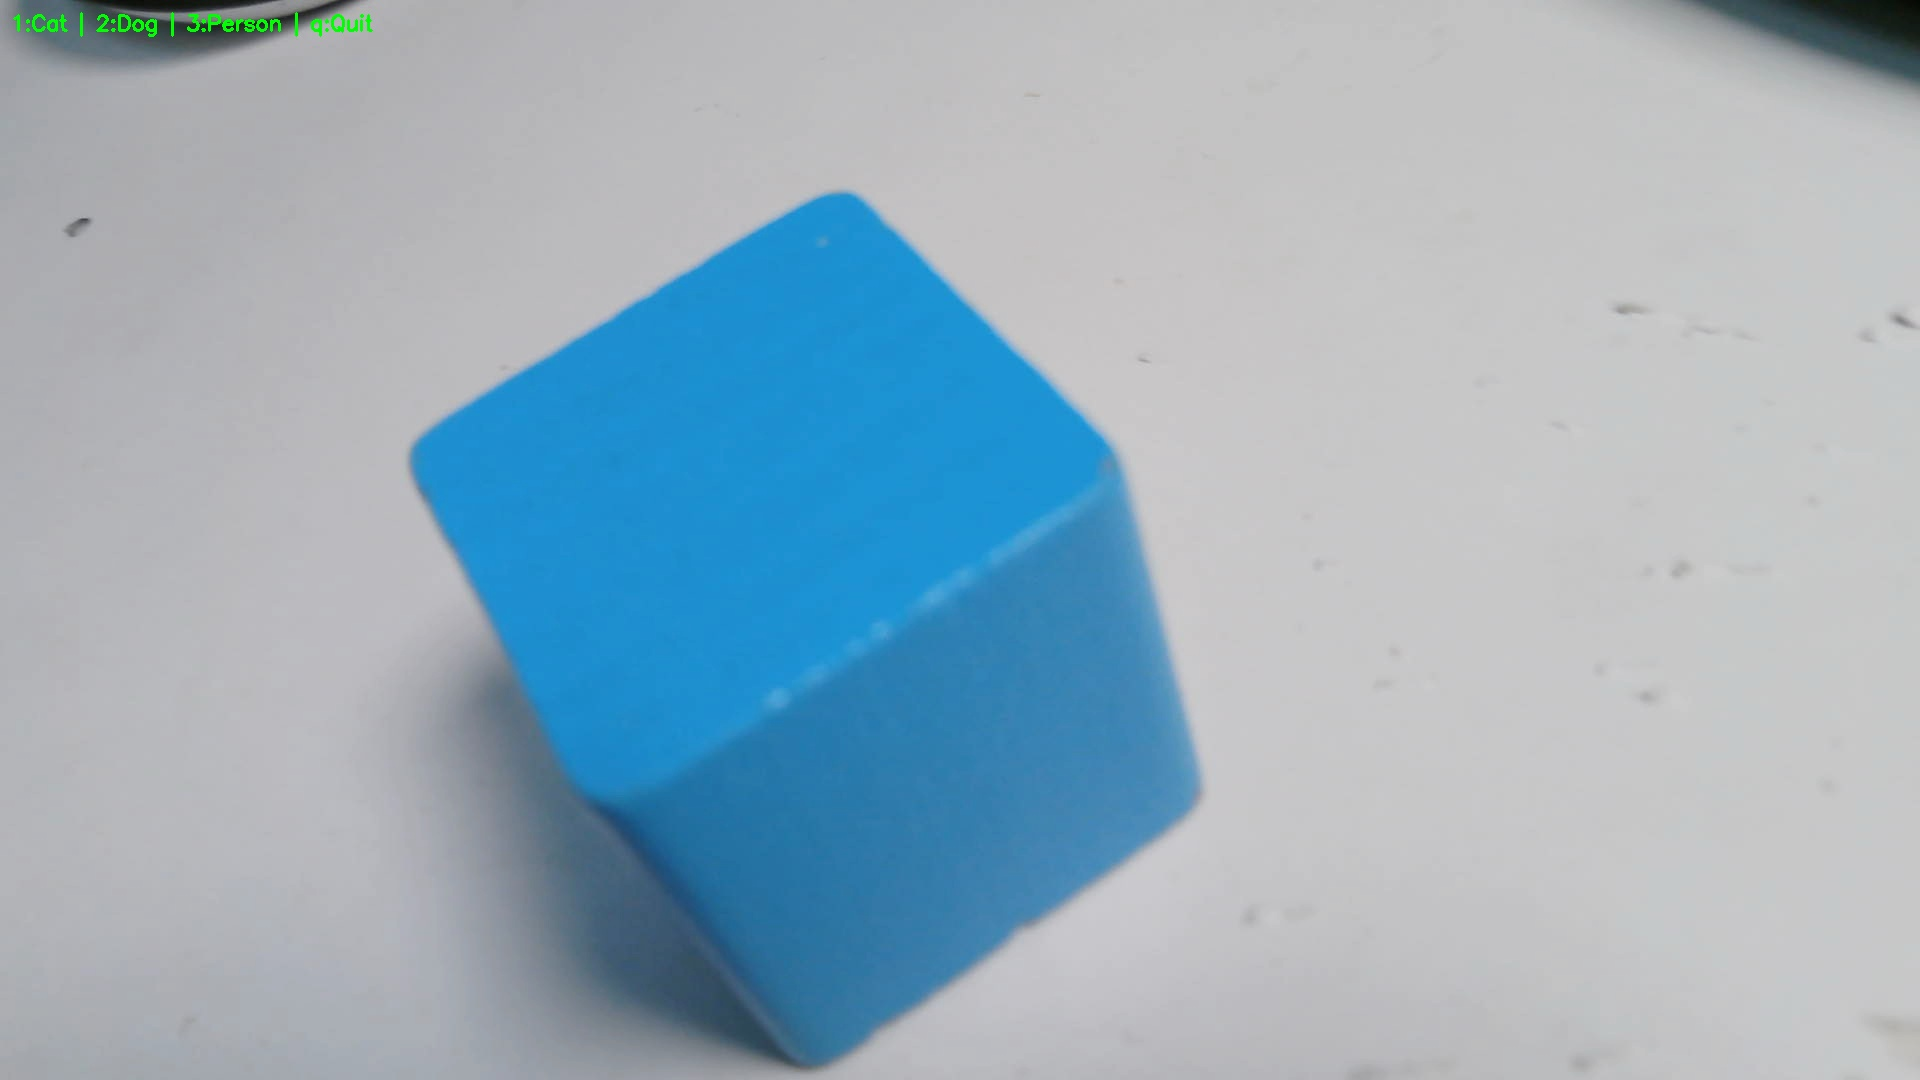blue: (406, 190, 1203, 1072)
